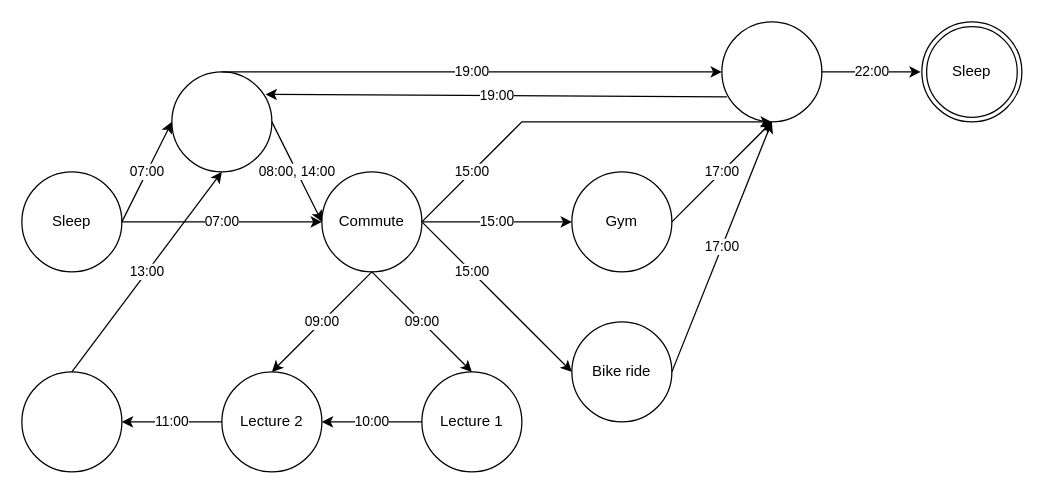
The diagram is 1044 pixels wide and 494 high, and some of its shapes have lost their labels. Each missing label, with the centre of its shape:
"Eat" belongs at point 221,121.
"Homework" belongs at point 771,71.
"Lecture 3" belongs at point 71,421.
